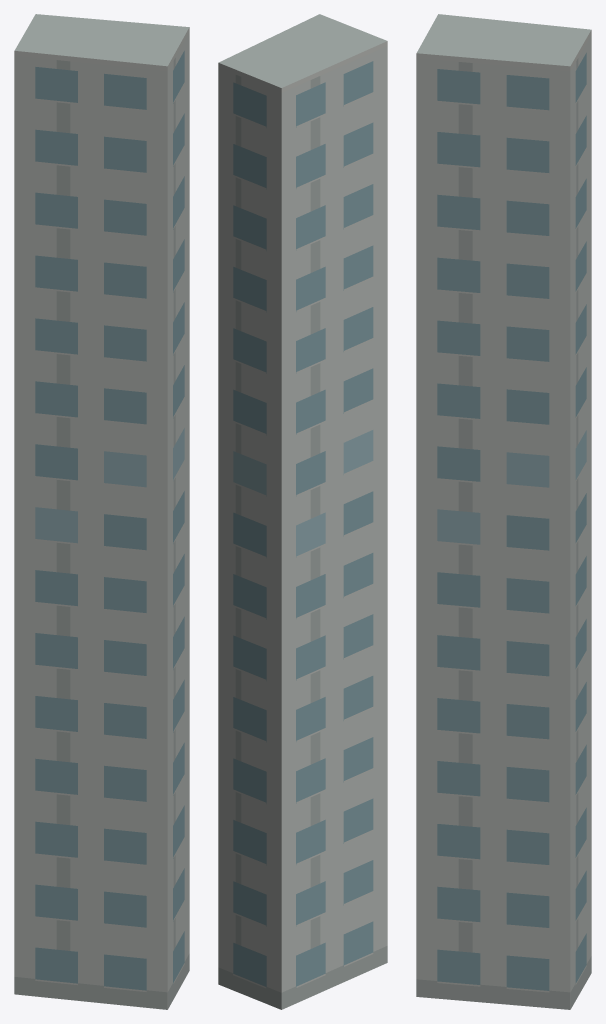
File: survey-upis-32904197.glb
3 renders of one model, left to right at view 1: azimuth 90°, elevation 25°; view 2: azimuth 150°, elevation 25°; view 3: azimuth 270°, elevation 25°, orthographic. The views are drawn at different scales.
Parts seen in each view (by area): view 1: survey-upis-32904197.tmp; view 2: survey-upis-32904197.tmp; view 3: survey-upis-32904197.tmp.
Part boxes in pixels (<box>): survey-upis-32904197.tmp: <box>14,14,189,1009</box>; survey-upis-32904197.tmp: <box>218,14,387,1009</box>; survey-upis-32904197.tmp: <box>416,14,591,1009</box>.
Bounding box in the file's own units: 5.45 × 45.75 × 7.7.
